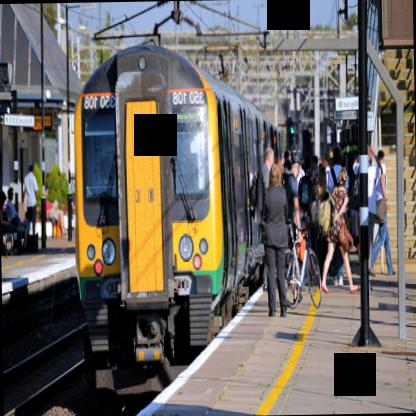backpack: (318, 192, 331, 235), (300, 176, 312, 209), (249, 174, 256, 220), (330, 167, 339, 191)
handbag: (337, 187, 353, 253), (2, 232, 13, 255), (297, 237, 306, 261)
suitcase: (27, 234, 38, 253)
